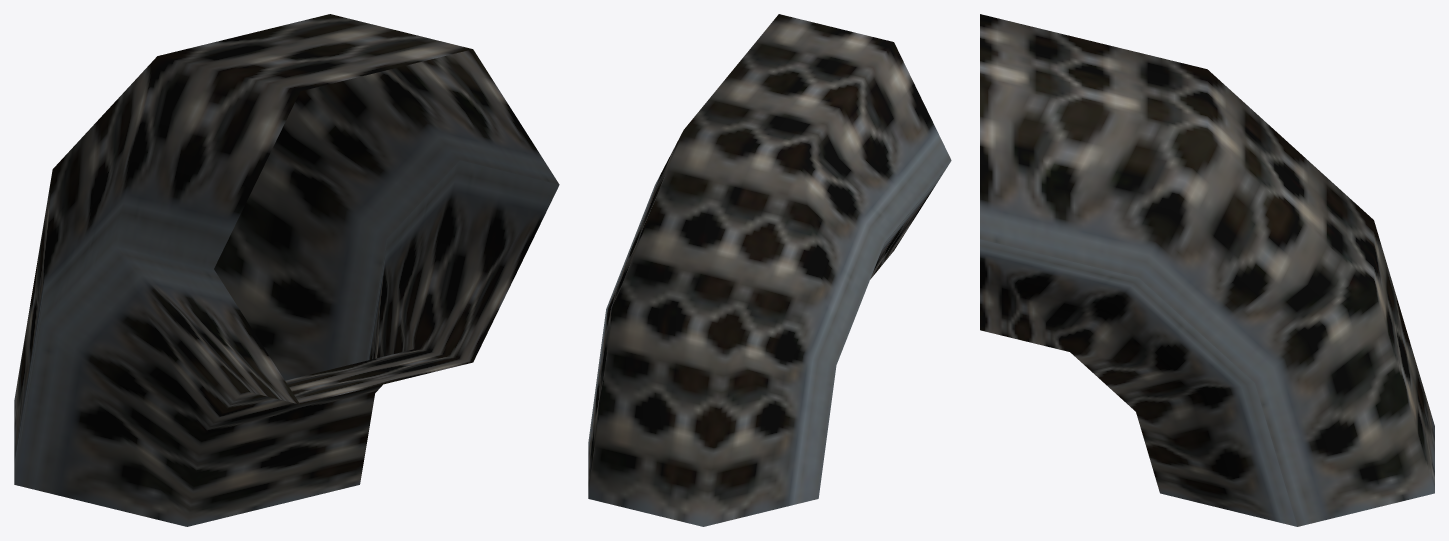
File: small_mesh_2_elbow.fbx
The picture shows the model from 3 angles, left to right: view 1: azimuth 30°, elevation 25°; view 2: azimuth 150°, elevation 25°; view 3: azimuth 270°, elevation 25°; orthographic projection. The views are drawn at different scales.
Parts seen in each view (by area): view 1: allPipes:pTorus36; view 2: allPipes:pTorus36; view 3: allPipes:pTorus36.
Boxes of the visible parts, x1=… form: allPipes:pTorus36: x1=14, y1=14, x2=559, y2=526; allPipes:pTorus36: x1=588, y1=14, x2=951, y2=526; allPipes:pTorus36: x1=980, y1=14, x2=1434, y2=526.
Size of the model in its own units: 0.25 by 0.3583 by 0.3583.
